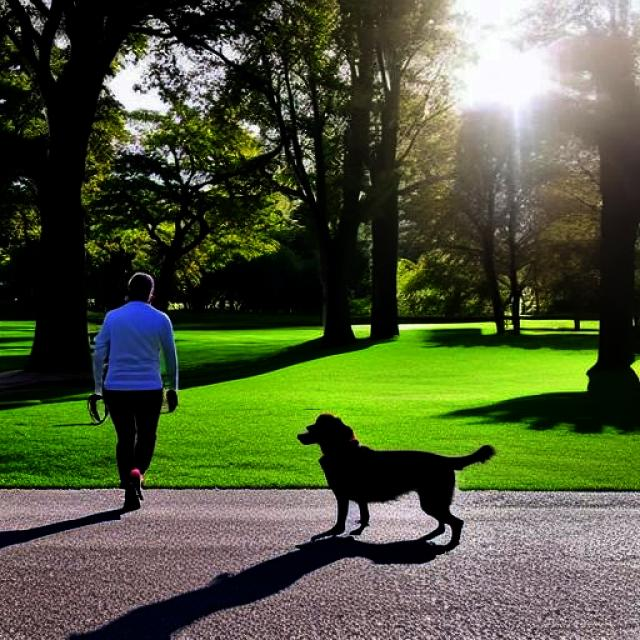Unleashed_Dog: (108, 378, 496, 552)
